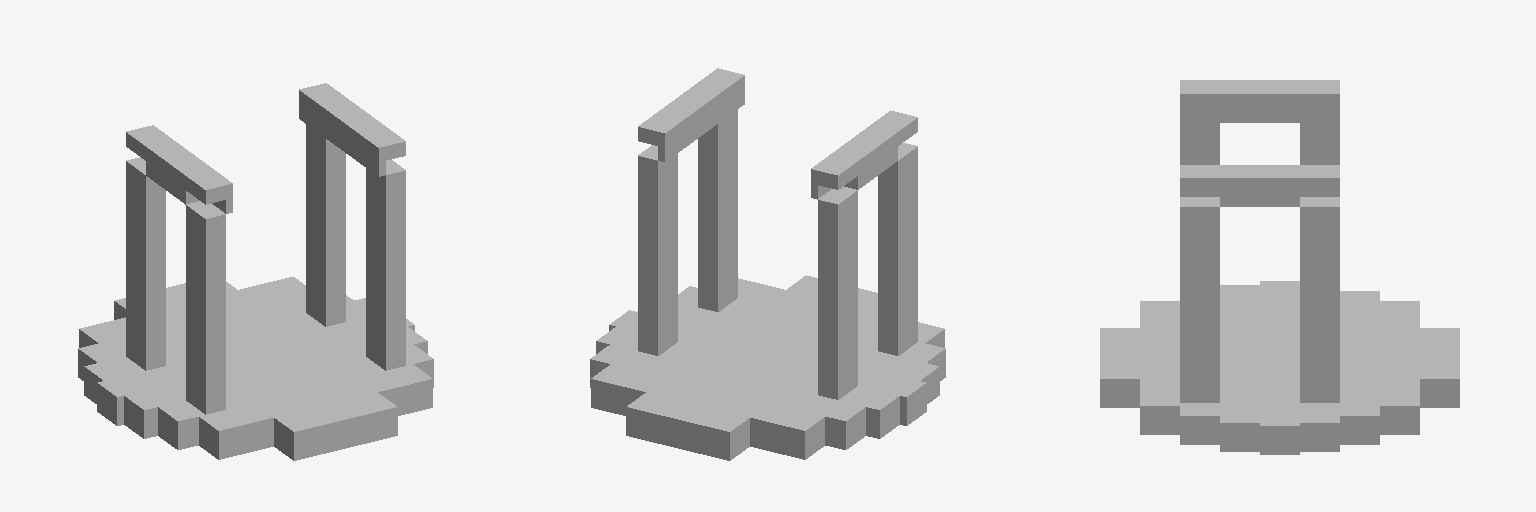
File: hangar.obj
The picture shows the model from 3 angles: view 1: azimuth 30°, elevation 25°; view 2: azimuth 150°, elevation 25°; view 3: azimuth 270°, elevation 25°; orthographic projection.
Visible parts, largest first — view 1: 立方体; view 2: 立方体; view 3: 立方体.
Part boxes in pixels (bbox=[...]): 立方体: bbox=[78, 83, 433, 460]; 立方体: bbox=[590, 68, 945, 460]; 立方体: bbox=[1100, 80, 1459, 454].
Size of the model in its own units: 2.01 by 1.63 by 2.1.